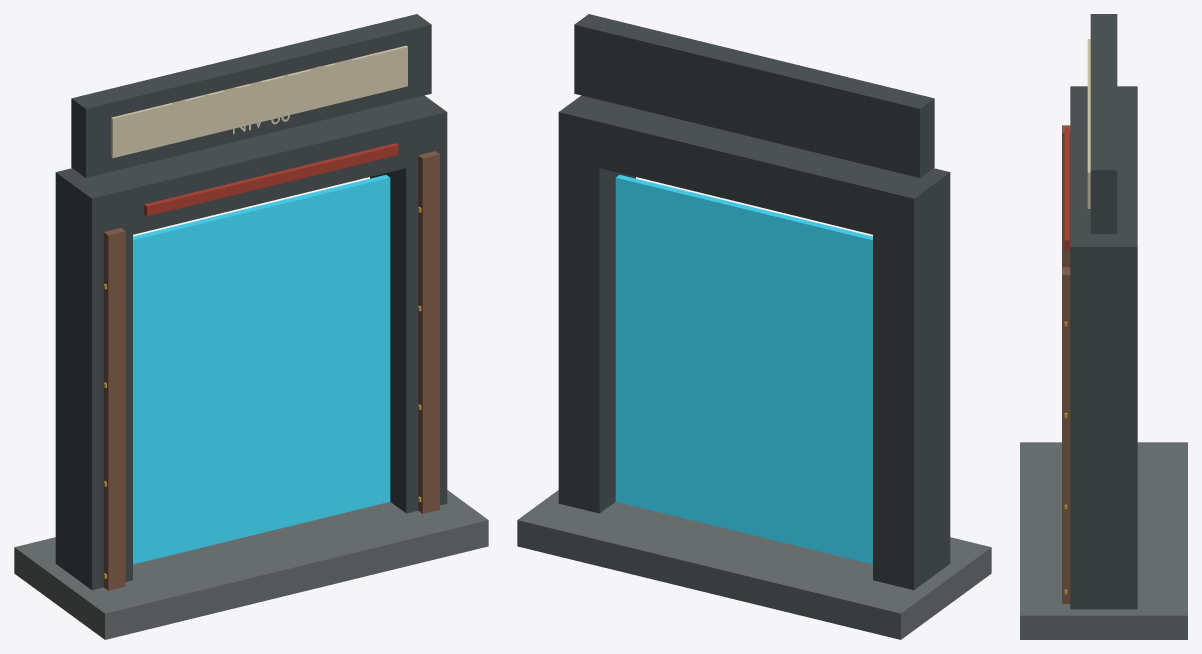
File: Refuge_Portal_07_Barrage_Niv60.fbx
The picture shows the model from 3 angles, left to right: view 1: azimuth 30°, elevation 25°; view 2: azimuth 150°, elevation 25°; view 3: azimuth 270°, elevation 25°; orthographic projection. The views are drawn at different scales.
Visible parts, largest first — view 1: Refuge_Portal_07_Barrage_Niv60_portal, Refuge_Portal_07_Barrage_Niv60_iron, Refuge_Portal_07_Barrage_Niv60_concrete_dark, Refuge_Portal_07_Barrage_Niv60_rust, Refuge_Portal_07_Barrage_Niv60_paint, Refuge_Portal_07_Barrage_Niv60_red, Refuge_Portal_07_Barrage_Niv60_label; view 2: Refuge_Portal_07_Barrage_Niv60_iron, Refuge_Portal_07_Barrage_Niv60_portal, Refuge_Portal_07_Barrage_Niv60_concrete_dark; view 3: Refuge_Portal_07_Barrage_Niv60_iron, Refuge_Portal_07_Barrage_Niv60_concrete_dark, Refuge_Portal_07_Barrage_Niv60_rust, Refuge_Portal_07_Barrage_Niv60_red, Refuge_Portal_07_Barrage_Niv60_paint.
Part boxes in pixels (<box>): Refuge_Portal_07_Barrage_Niv60_portal: <box>133,175,390,564</box>; Refuge_Portal_07_Barrage_Niv60_iron: <box>55,14,447,590</box>; Refuge_Portal_07_Barrage_Niv60_concrete_dark: <box>14,490,488,639</box>; Refuge_Portal_07_Barrage_Niv60_rust: <box>103,151,439,590</box>; Refuge_Portal_07_Barrage_Niv60_paint: <box>111,45,407,158</box>; Refuge_Portal_07_Barrage_Niv60_red: <box>144,143,398,216</box>; Refuge_Portal_07_Barrage_Niv60_label: <box>172,59,351,132</box>; Refuge_Portal_07_Barrage_Niv60_iron: <box>558,14,950,590</box>; Refuge_Portal_07_Barrage_Niv60_portal: <box>615,175,872,564</box>; Refuge_Portal_07_Barrage_Niv60_concrete_dark: <box>517,490,991,639</box>; Refuge_Portal_07_Barrage_Niv60_iron: <box>1070,14,1137,609</box>; Refuge_Portal_07_Barrage_Niv60_concrete_dark: <box>1020,442,1187,639</box>; Refuge_Portal_07_Barrage_Niv60_rust: <box>1062,125,1070,603</box>; Refuge_Portal_07_Barrage_Niv60_red: <box>1064,126,1069,249</box>; Refuge_Portal_07_Barrage_Niv60_paint: <box>1087,39,1090,208</box>.
Size of the model in its own units: 12.2 by 15.15 by 5.
